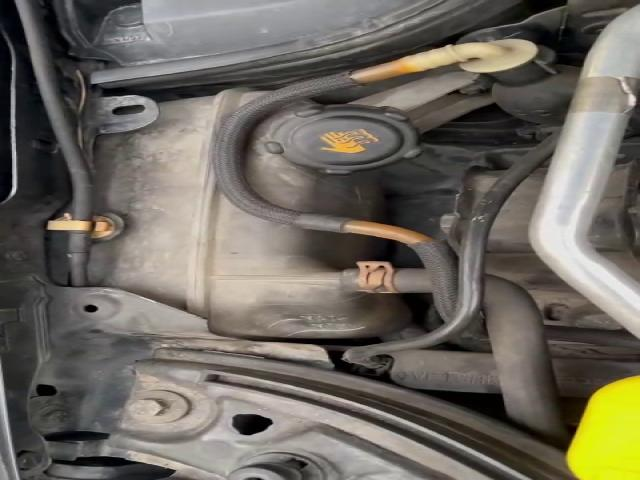antifreeze_tank: (91, 89, 409, 338), (245, 102, 422, 221)
